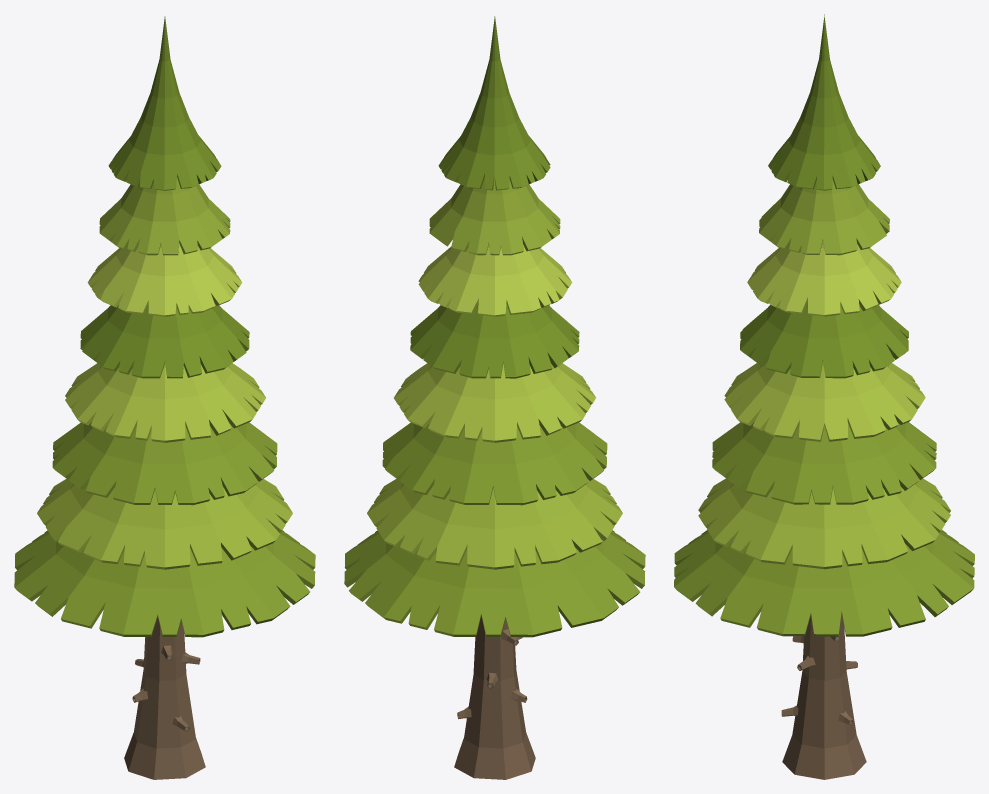
File: NHP_Tree_LP_C1_8m_01.fbx
3 renders of one model, left to right at view 1: azimuth 30°, elevation 25°; view 2: azimuth 150°, elevation 25°; view 3: azimuth 270°, elevation 25°, orthographic.
Parts seen in each view (by area): view 1: NHP_Tree_LP_C1_8m_01_LOD0; view 2: NHP_Tree_LP_C1_8m_01_LOD0; view 3: NHP_Tree_LP_C1_8m_01_LOD0.
Part boxes in pixels (x1,y1,x2,y2): NHP_Tree_LP_C1_8m_01_LOD0: [14, 16, 315, 779]; NHP_Tree_LP_C1_8m_01_LOD0: [344, 16, 645, 779]; NHP_Tree_LP_C1_8m_01_LOD0: [674, 14, 974, 779].
Size of what is drawn, in the model's own units: 3.01 by 8.25 by 3.01.
